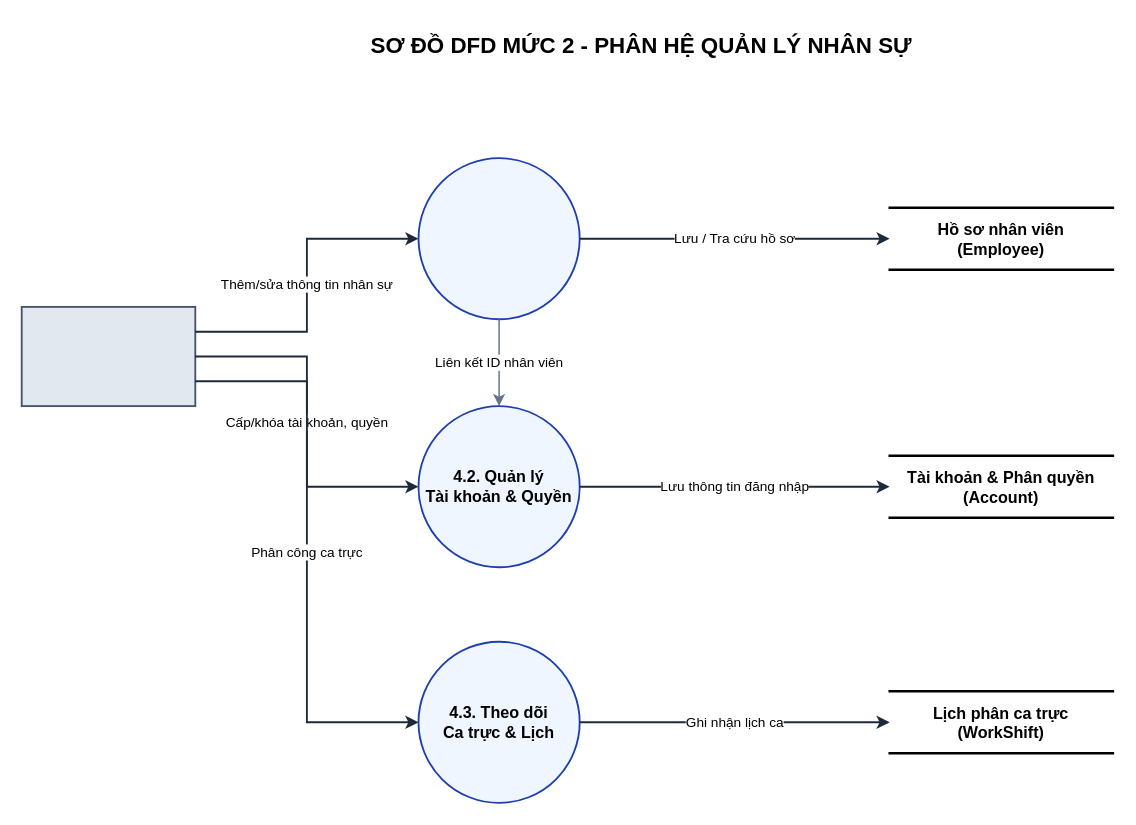
The diagram is 1136 pixels wide and 825 high, and some of its shapes have lost their labels. The centre of each missing label's shape, as x and y in pixels:
"4.1. Tiếp nhận & Hồ sơ nhân viên" goes at (x=498, y=238).
"Ban quản trị (Quản lý)" goes at (x=108, y=355).
